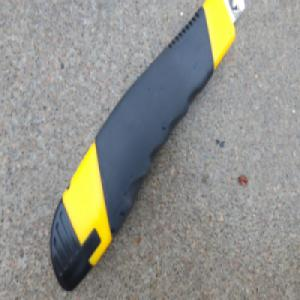Cutter: (50, 0, 248, 292)
